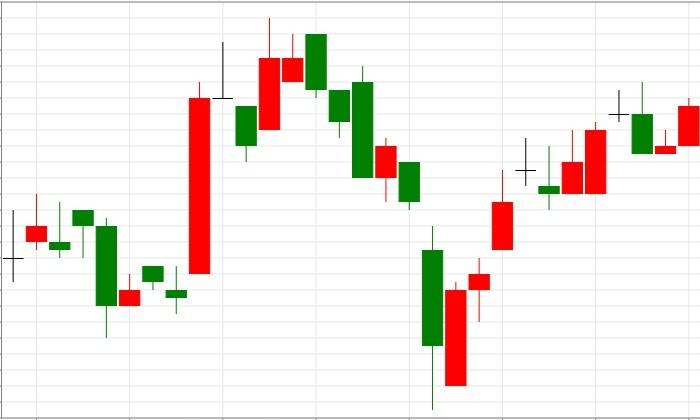bearish_engulfing_fall: (235, 18, 328, 162)
evening_star_fall: (538, 81, 654, 211)
three_white_soldiers_rise: (305, 34, 514, 410)
